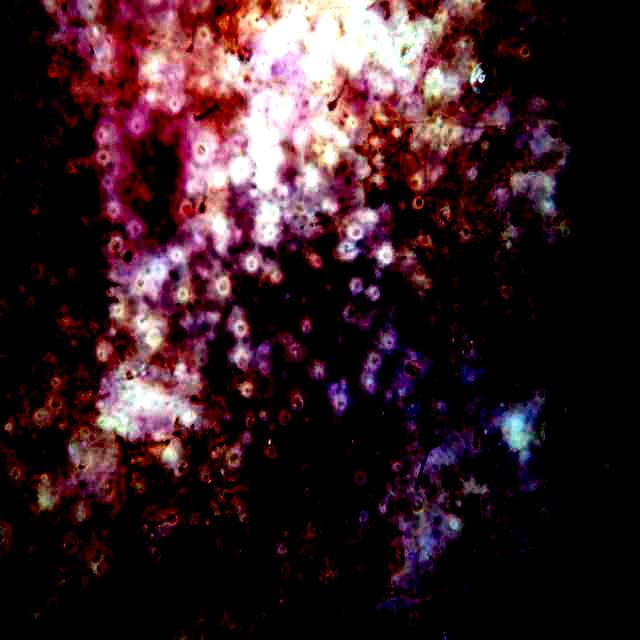AKIEC: (186, 95, 554, 538)
